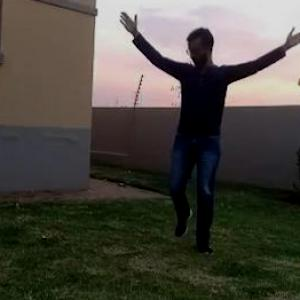takeoff: (114, 1, 299, 261)
